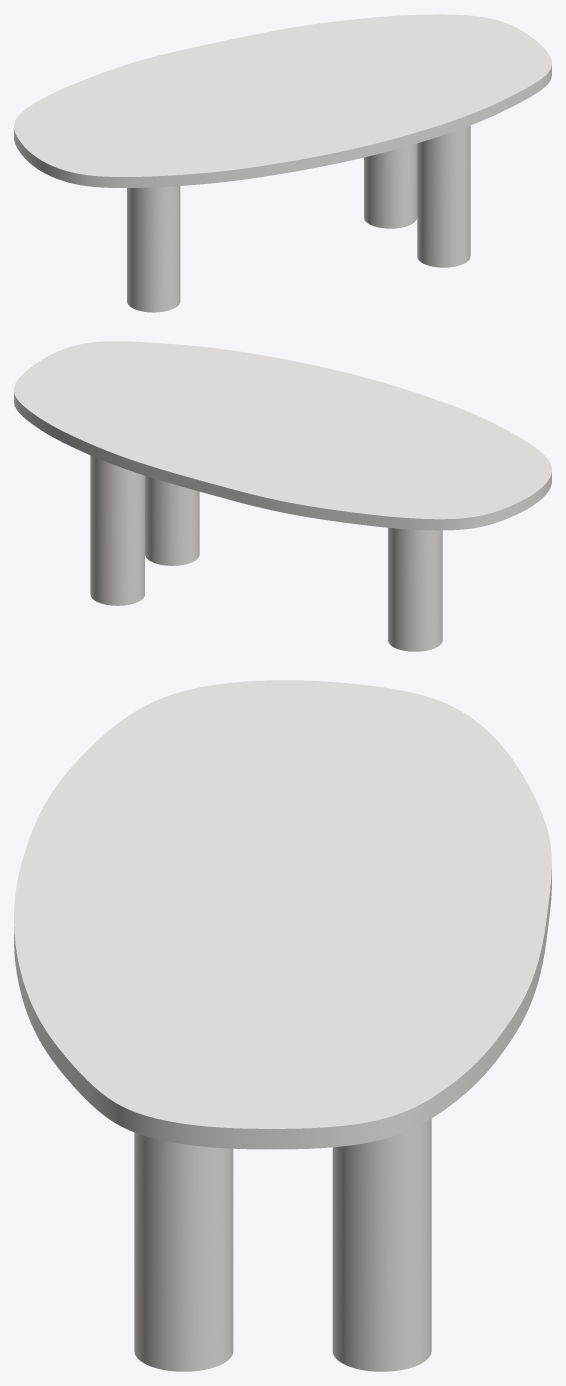
Rendered from purewhite_danish_standard_cylinder.glb.
3 views of the same model, one above another, from view 1: azimuth 30°, elevation 25°; view 2: azimuth 150°, elevation 25°; view 3: azimuth 270°, elevation 25° (orthographic). The views are drawn at different scales.
Visible parts, largest first — view 1: standard_danish, cylinder; view 2: standard_danish, cylinder; view 3: standard_danish, cylinder.
Boxes of the visible parts, <box> form: standard_danish: <box>14,14,551,187</box>; cylinder: <box>127,125,470,312</box>; standard_danish: <box>14,341,551,530</box>; cylinder: <box>90,455,442,651</box>; standard_danish: <box>14,680,551,1149</box>; cylinder: <box>134,1119,431,1371</box>.
Size of the model in its own units: 7.5 by 2.52 by 3.8.
Materials: 1 (1 with a texture image).
